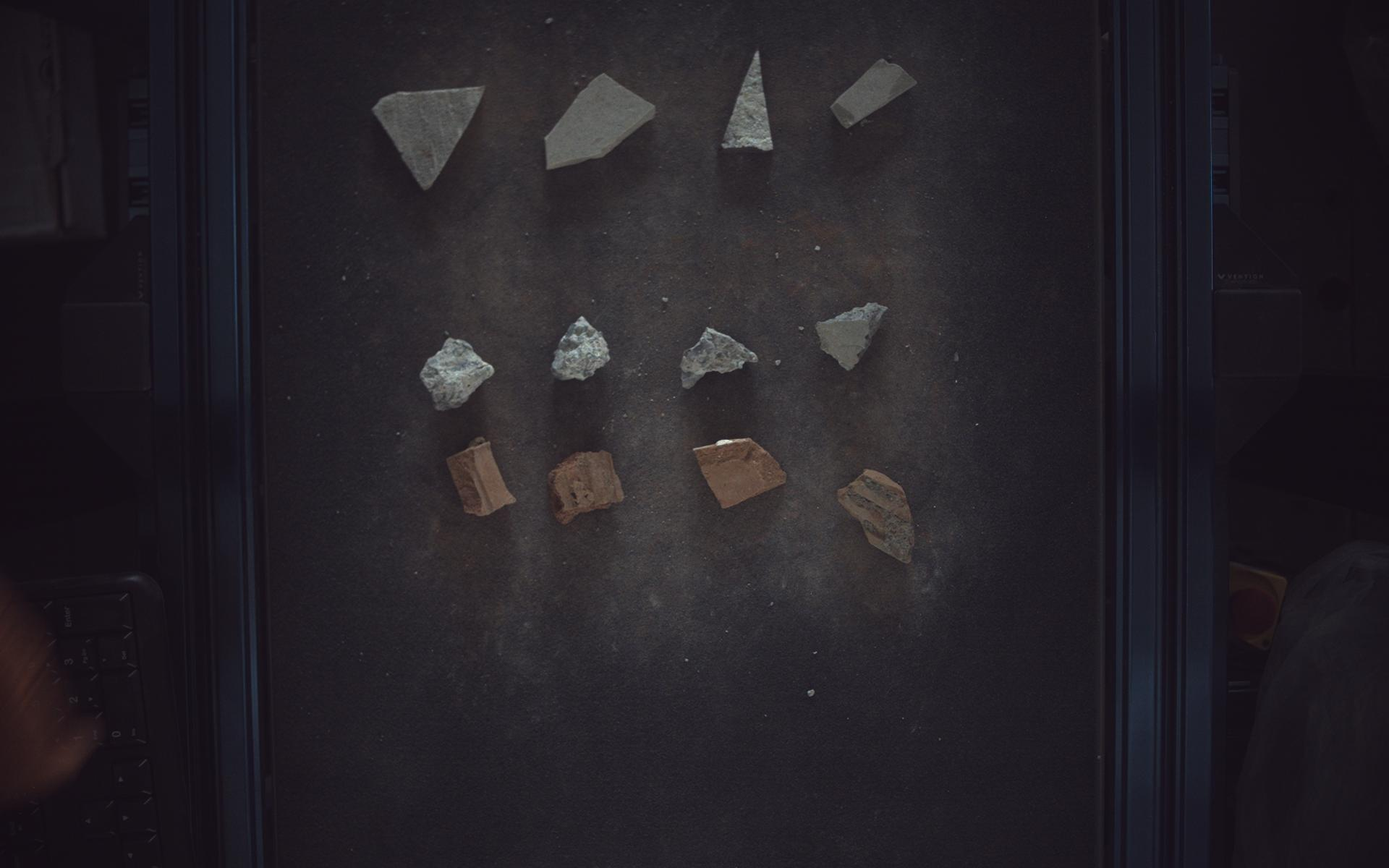brick: (839, 469, 917, 564), (695, 439, 787, 509), (447, 436, 517, 516), (548, 453, 624, 524)
concrete: (420, 338, 495, 411), (817, 302, 888, 370), (682, 327, 759, 388), (552, 315, 611, 380)
tile: (373, 85, 485, 190), (545, 72, 656, 169), (833, 57, 919, 127), (723, 49, 774, 150)
